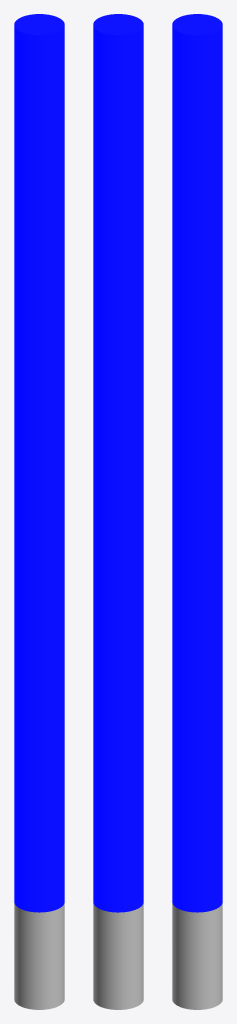
3 renders of one model, left to right at view 1: azimuth 90°, elevation 25°; view 2: azimuth 210°, elevation 25°; view 3: azimuth 270°, elevation 25°, orthographic.
Parts seen in each view (by area): view 1: Cylinder; view 2: Cylinder; view 3: Cylinder.
Boxes of the visible parts, <box> form: Cylinder: <box>14,14,64,1009</box>; Cylinder: <box>93,14,143,1009</box>; Cylinder: <box>172,14,222,1009</box>.
Bounding box in the file's own units: 8.13 × 173 × 8.13.
